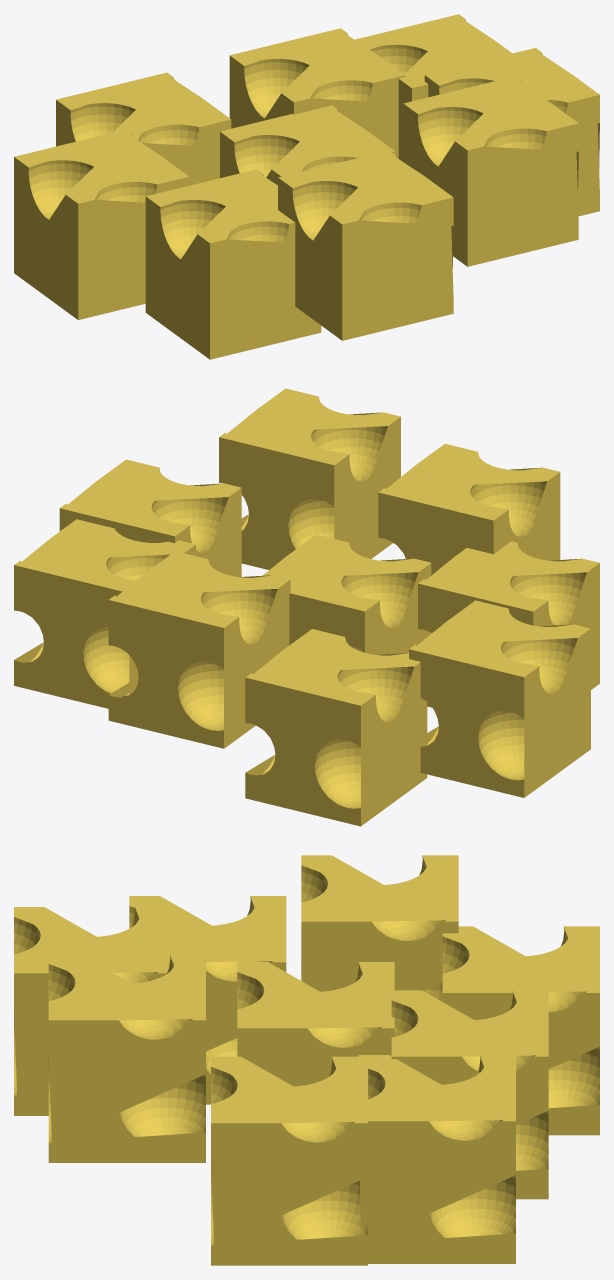
File: CheeseSlices.fbx
3 renders of one model, top to bottom at view 1: azimuth 30°, elevation 25°; view 2: azimuth 150°, elevation 25°; view 3: azimuth 270°, elevation 25°, orthographic. The views are drawn at different scales.
Parts seen in each view (by area): view 1: Cheese Slices; view 2: Cheese Slices; view 3: Cheese Slices.
Part boxes in pixels (left/top/right/bottom): Cheese Slices: left=14, top=14, right=599, bottom=359; Cheese Slices: left=14, top=388, right=599, bottom=826; Cheese Slices: left=14, top=855, right=599, bottom=1265.
Bounding box in the file's own units: 207 × 75.29 × 177.
